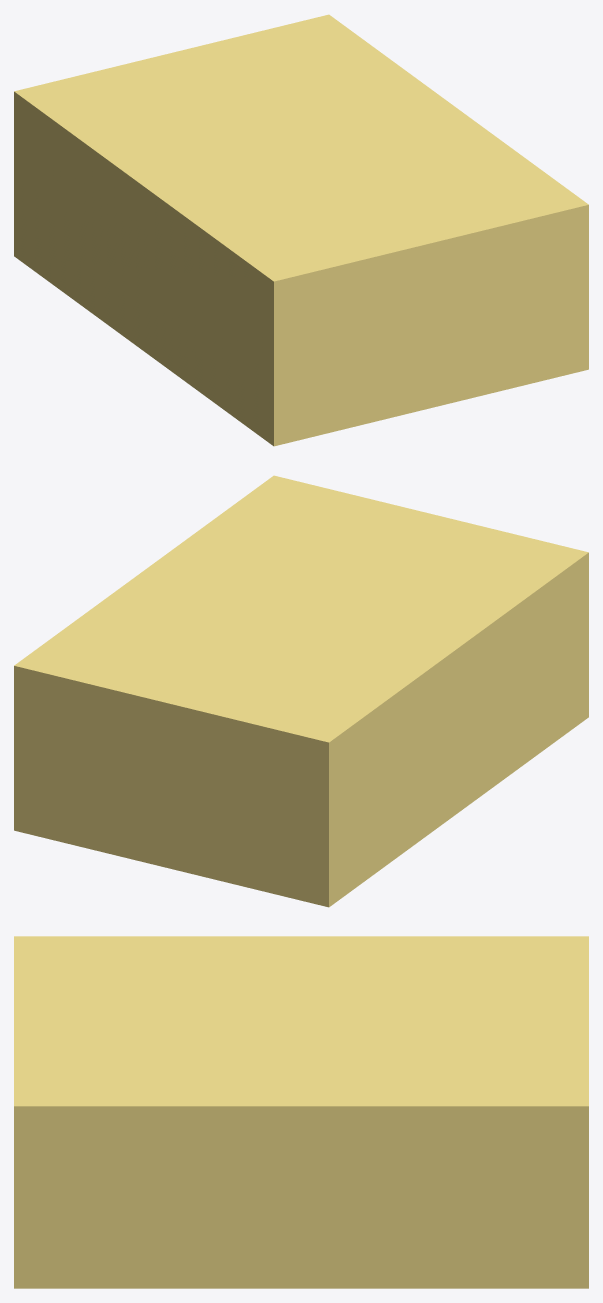
The model's file is courier.glb.
The picture shows the model from 3 angles, top to bottom: view 1: azimuth 30°, elevation 25°; view 2: azimuth 150°, elevation 25°; view 3: azimuth 270°, elevation 25°; orthographic projection. The views are drawn at different scales.
Visible parts, largest first — view 1: Courier; view 2: Courier; view 3: Courier.
Boxes of the visible parts, box(x1,y1,x2,y2) form: Courier: box(14, 14, 588, 446); Courier: box(14, 475, 588, 907); Courier: box(14, 936, 588, 1288).
Bounding box in the file's own units: 0.7 × 0.35 × 1.
